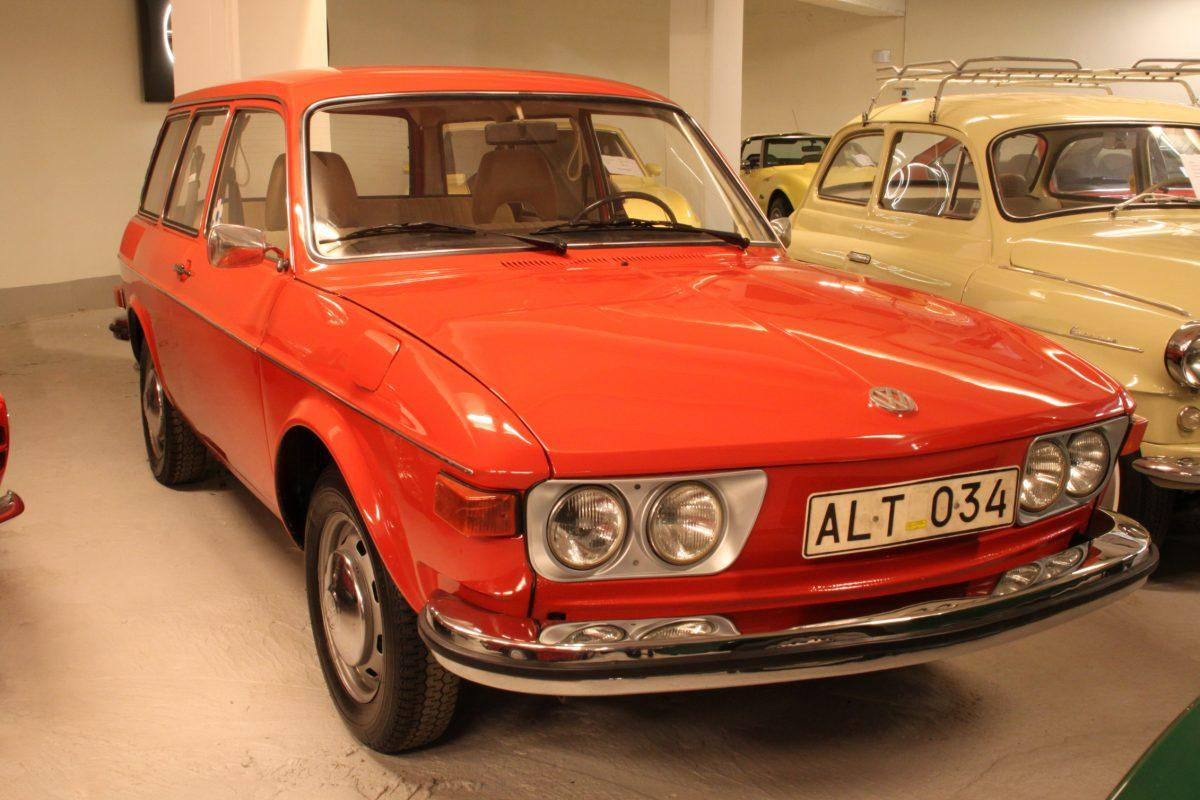license-plates: (799, 463, 1023, 563)
